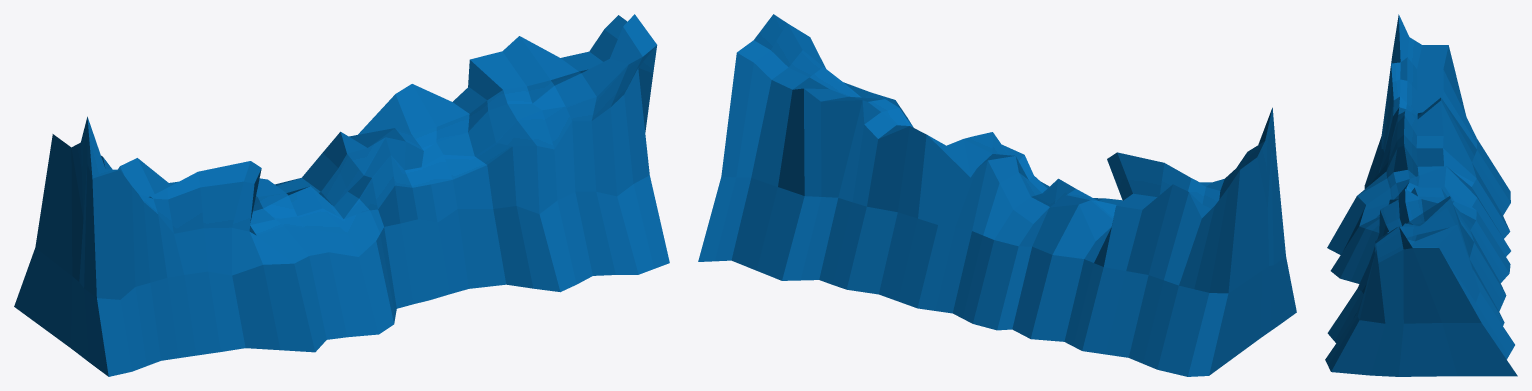
Rendered from BG_Row1.fbx.
3 renders of one model, left to right at view 1: azimuth 30°, elevation 25°; view 2: azimuth 150°, elevation 25°; view 3: azimuth 270°, elevation 25°, orthographic. The views are drawn at different scales.
Parts seen in each view (by area): view 1: Row 1; view 2: Row 1; view 3: Row 1.
Part boxes in pixels (box(x1,y1,x2,y2)): Row 1: box(14, 14, 669, 376); Row 1: box(698, 14, 1296, 376); Row 1: box(1325, 14, 1517, 376).
Bounding box in the file's own units: 414 × 172 × 173.
